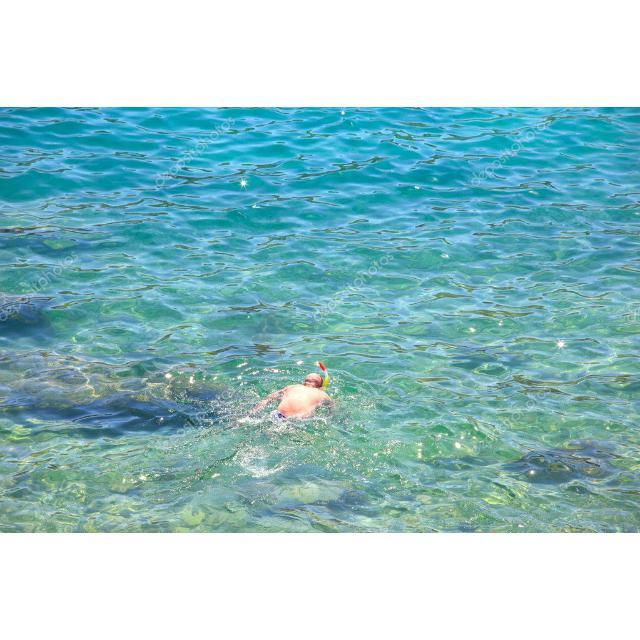human: (266, 363, 332, 421)
